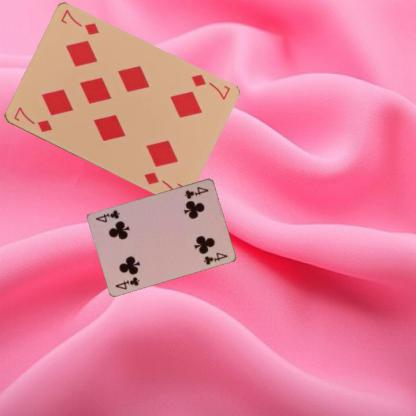4c: (182, 182, 210, 200), (113, 274, 141, 290)
7d: (188, 72, 231, 102), (10, 104, 52, 133)
